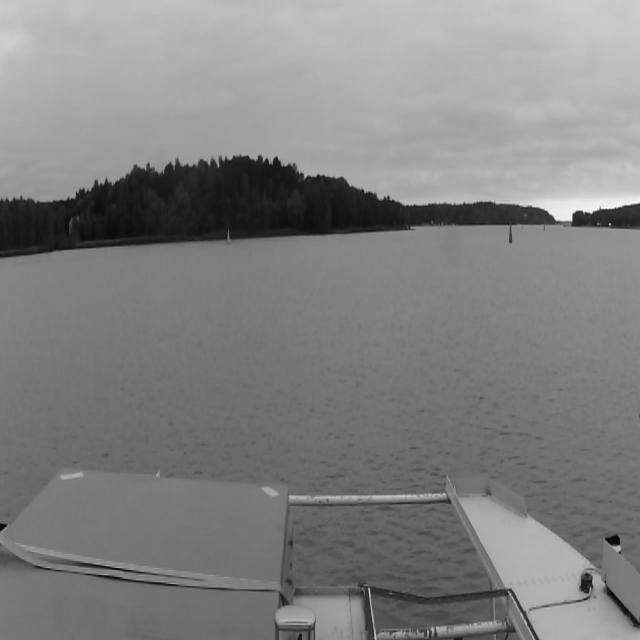buoy: (506, 223, 518, 248), (224, 227, 233, 246), (542, 221, 546, 231)
